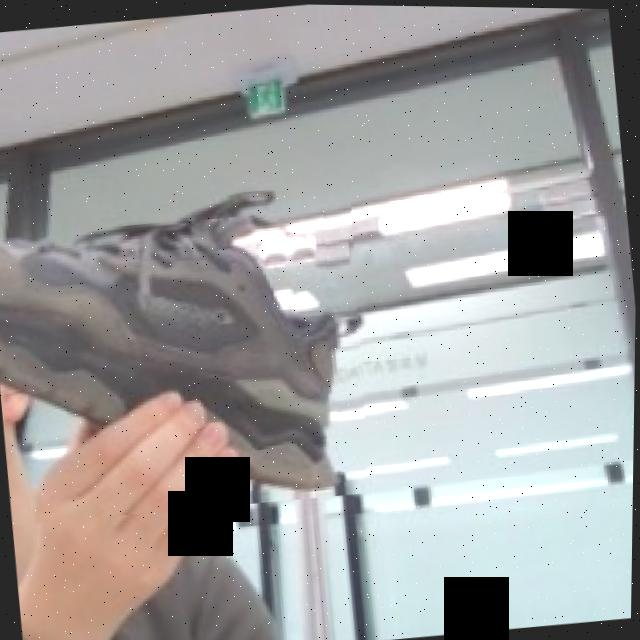shoe: (0, 179, 381, 528)
